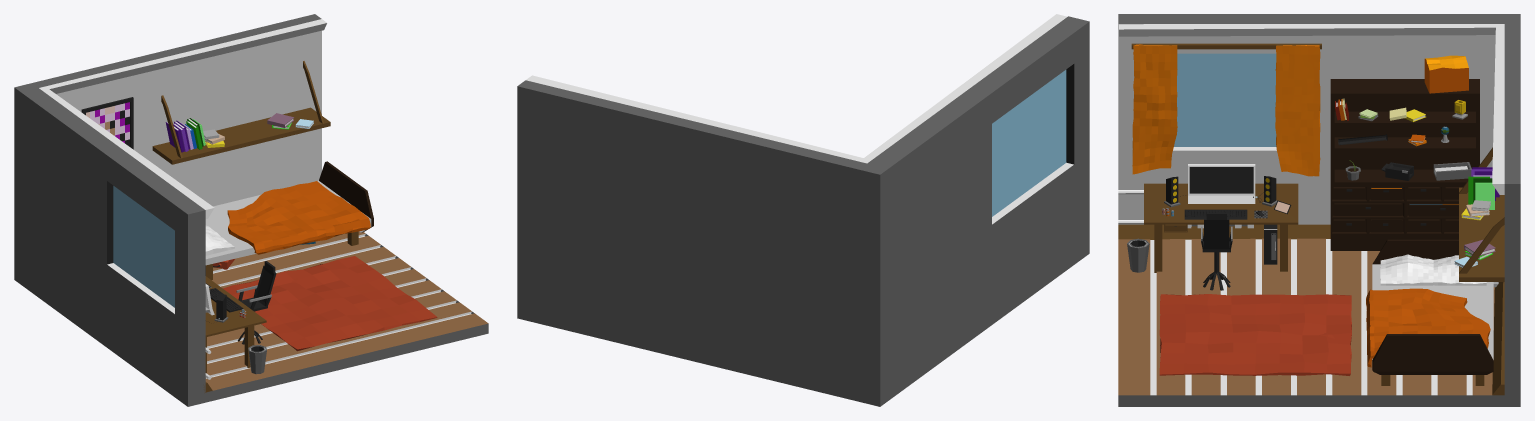
The model's file is room.fbx.
3 renders of one model, left to right at view 1: azimuth 30°, elevation 25°; view 2: azimuth 150°, elevation 25°; view 3: azimuth 270°, elevation 25°, orthographic. The views are drawn at different scales.
Parts seen in each view (by area): view 1: Plane; view 2: Plane; view 3: Plane.
Part boxes in pixels (bbox=[...]): Plane: bbox=[14, 14, 488, 406]; Plane: bbox=[517, 14, 1089, 406]; Plane: bbox=[1118, 14, 1520, 406].
Size of the model in its own units: 4 by 2.45 by 4.
Materials: 1 (1 with a texture image).
